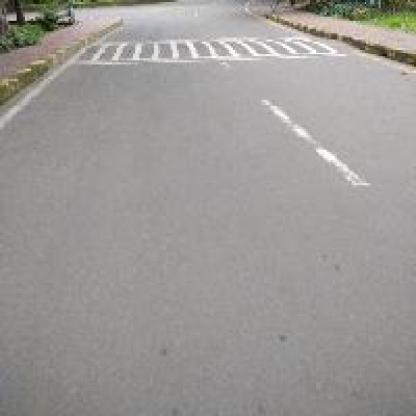Speed Bump: (64, 27, 350, 71)
